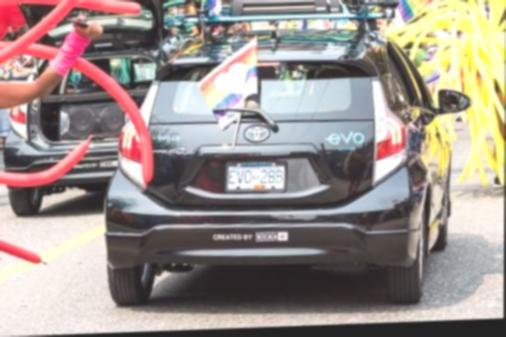License_Plate: (221, 155, 290, 200)
